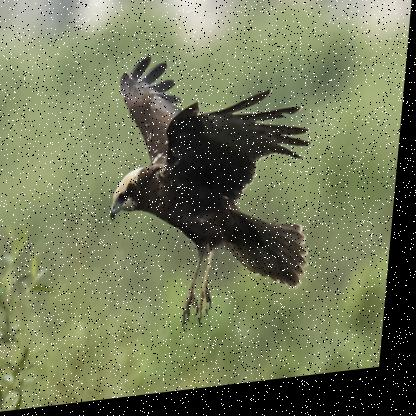Burung: (101, 41, 331, 339)
